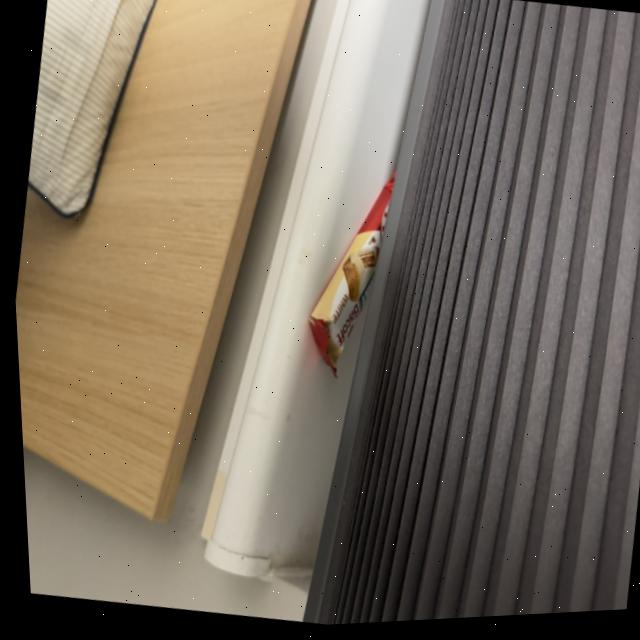chocolate: (288, 159, 409, 394)
